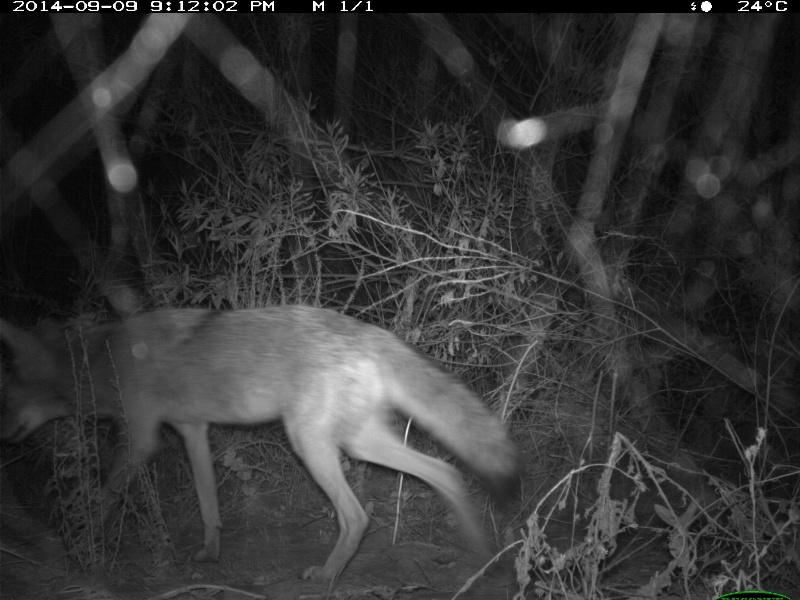coyote: (4, 275, 529, 590)
